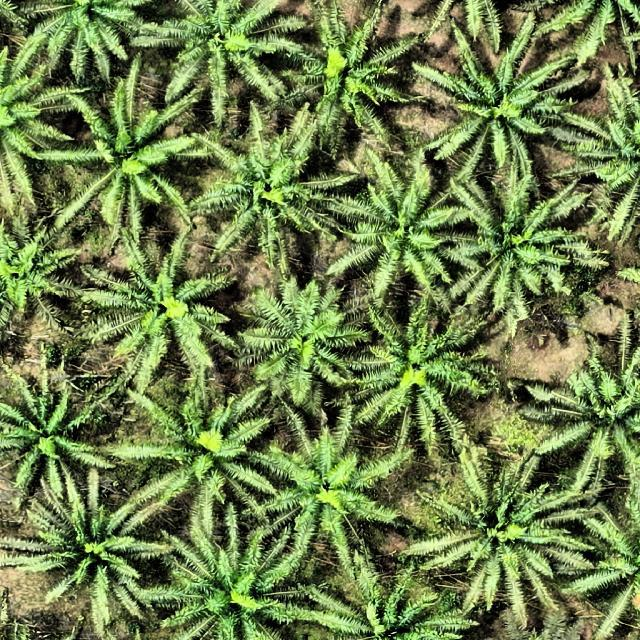Kelapa_Sawit: (206, 125, 342, 263), (460, 185, 588, 312), (344, 166, 468, 295), (456, 464, 577, 594), (147, 389, 275, 511), (364, 311, 483, 441), (167, 3, 303, 114), (70, 104, 200, 218), (245, 281, 366, 402), (442, 44, 564, 164), (106, 260, 233, 370), (48, 490, 161, 612), (176, 539, 298, 640), (0, 45, 72, 205), (6, 381, 102, 497), (284, 447, 390, 550), (312, 28, 410, 134), (30, 2, 150, 82), (553, 366, 640, 472), (583, 73, 640, 222), (333, 575, 456, 640), (589, 511, 640, 628)
